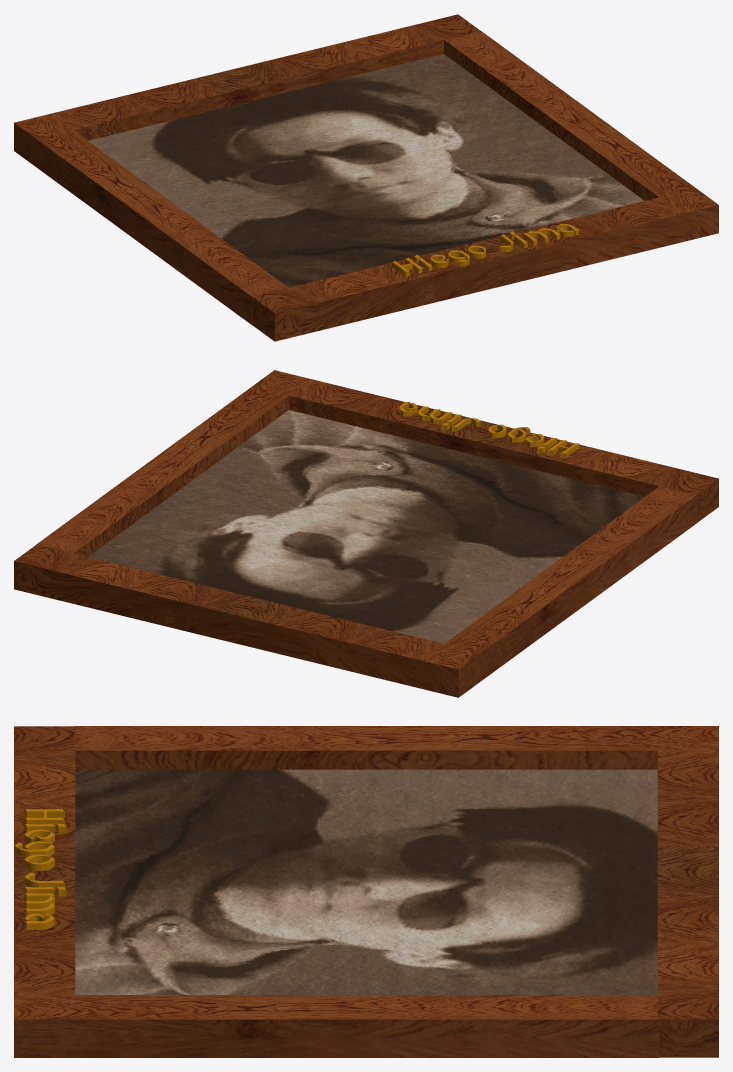
File: newmonkframe4.glb
3 views of the same model, one above another, from view 1: azimuth 30°, elevation 25°; view 2: azimuth 150°, elevation 25°; view 3: azimuth 270°, elevation 25° (orthographic). The views are drawn at different scales.
Parts seen in each view (by area): view 1: Plane, Cube.001, Cube, William Dafilo; view 2: Plane, Cube, Cube.001, William Dafilo; view 3: Plane, Cube.001, Cube, William Dafilo.
Boxes of the visible parts, x1=… form: Plane: x1=88, y1=54, x2=644, y2=287; Cube.001: x1=252, y1=30, x2=718, y2=341; Cube: x1=14, y1=14, x2=480, y2=325; William Dafilo: x1=392, y1=224, x2=578, y2=277; Plane: x1=88, y1=410, x2=644, y2=643; Cube: x1=14, y1=486, x2=696, y2=697; Cube.001: x1=36, y1=370, x2=718, y2=556; William Dafilo: x1=399, y1=401, x2=579, y2=458; Plane: x1=75, y1=769, x2=657, y2=994; Cube.001: x1=14, y1=726, x2=659, y2=1057; Cube: x1=74, y1=726, x2=718, y2=1057; William Dafilo: x1=14, y1=809, x2=66, y2=930.
Size of the model in its own units: 0.6743 by 0.0482 by 0.6847.
3 materials, 2 textured.
